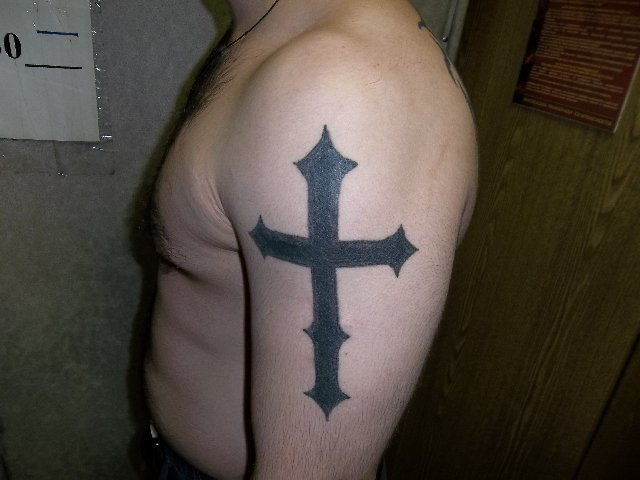tatu9_krest: (252, 120, 412, 421)
